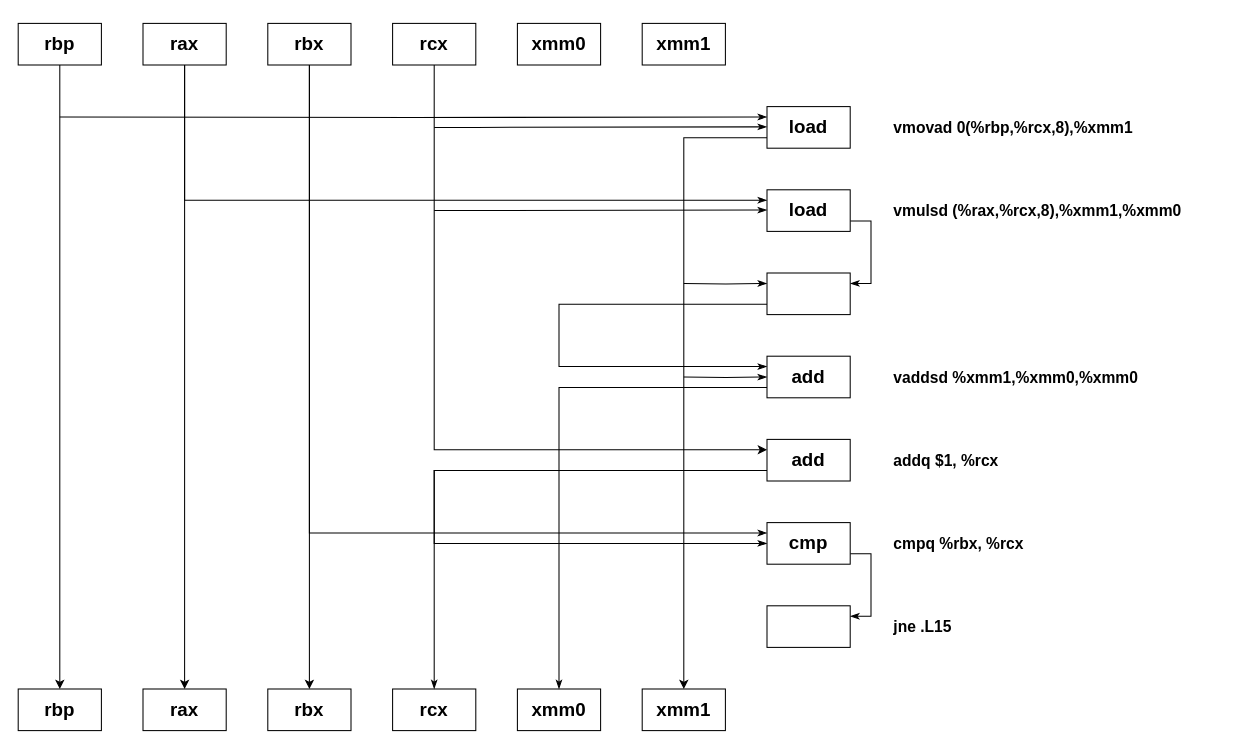
Image size: 1243x754. Some labels were removed from this diagram. The shapes that lost their labels are listed below. From the top down, each one's box as (x1, y1, x2, y2) in pixels, then its label:
(766, 272, 850, 315): mul
(766, 605, 850, 647): jne
